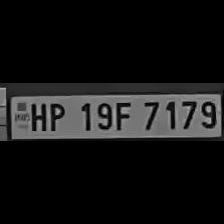1: (71, 99, 93, 131), (160, 98, 176, 130)
7: (136, 98, 160, 130), (176, 98, 196, 130)
9: (92, 99, 114, 131), (196, 98, 218, 130)
F: (113, 99, 134, 131)
H: (26, 100, 46, 132)
P: (45, 99, 67, 131)
